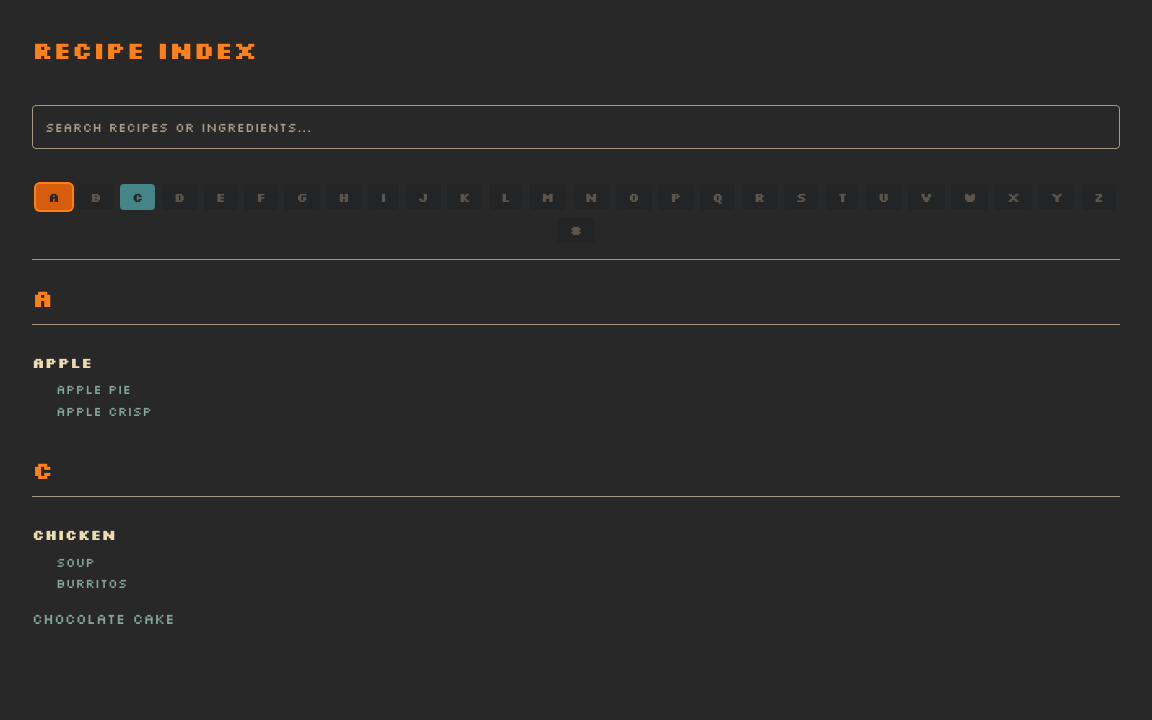
Test: RecipeList - Index View › filters index based on search query
Check: the text "Apple" is shown, box [32, 353, 92, 372]
Note: Type in search box
Type "soup" into the field with placeholder "Search recipes or ingredients..." at point(576, 127), box [32, 105, 1120, 149]
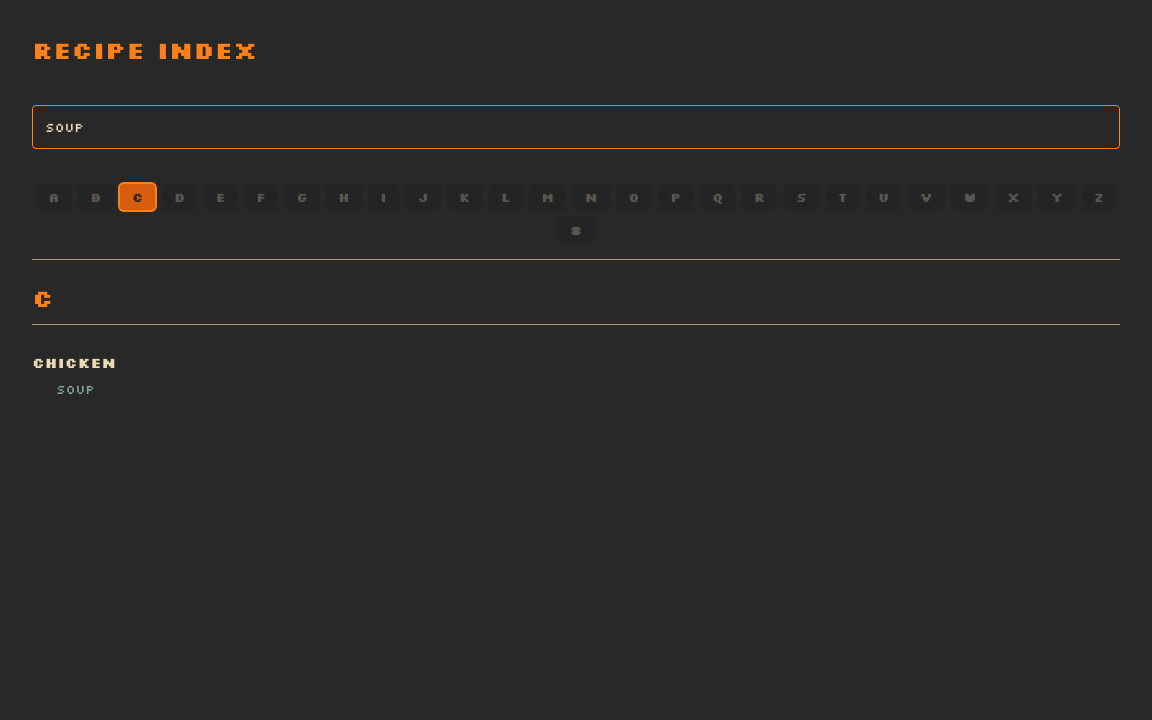
Check: the link "soup" is shown, box [56, 381, 95, 397]
Check: the link "Apple Pie" is gone
Check: the link "Chocolate Cake" is gone
